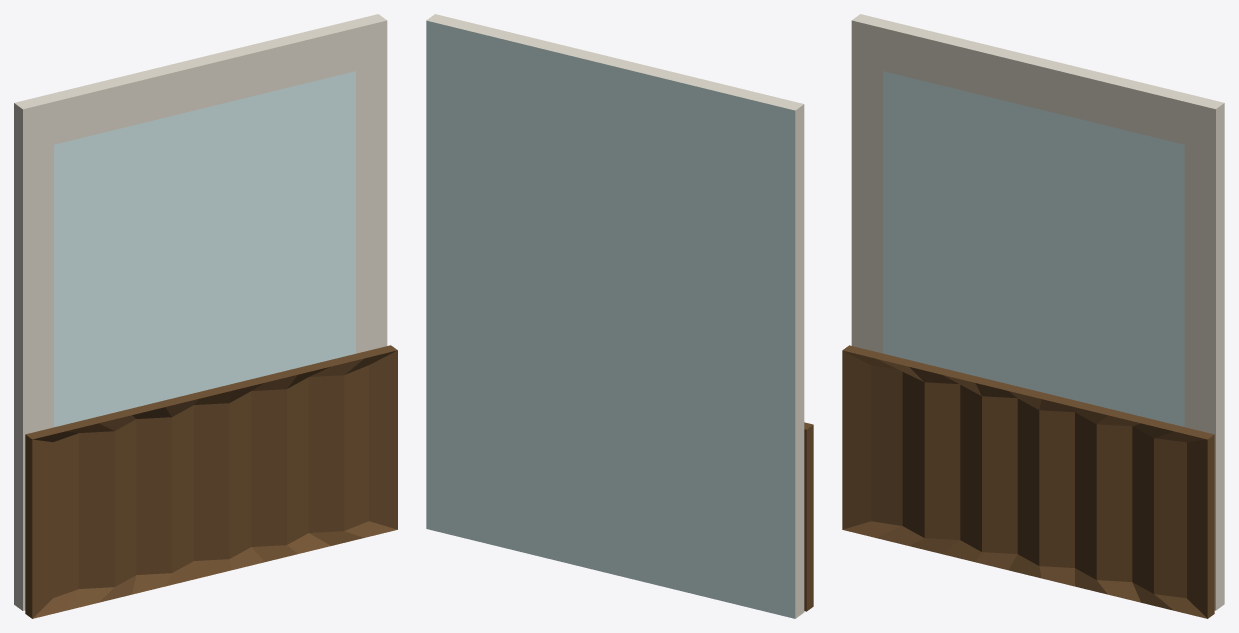
The model's file is Window.glb.
3 renders of one model, left to right at view 1: azimuth 30°, elevation 25°; view 2: azimuth 150°, elevation 25°; view 3: azimuth 330°, elevation 25°, orthographic.
Parts seen in each view (by area): view 1: Cube, Cube.002; view 2: Cube, Cube.002; view 3: Cube, Cube.002.
Boxes of the visible parts, bbox=[...] form: Cube: bbox=[14, 14, 387, 610]; Cube.002: bbox=[25, 345, 397, 618]; Cube: bbox=[426, 14, 804, 618]; Cube.002: bbox=[804, 422, 813, 611]; Cube: bbox=[851, 14, 1224, 610]; Cube.002: bbox=[842, 345, 1214, 618].
Bounding box in the file's own units: 12.02 × 15.8 × 1.04.
